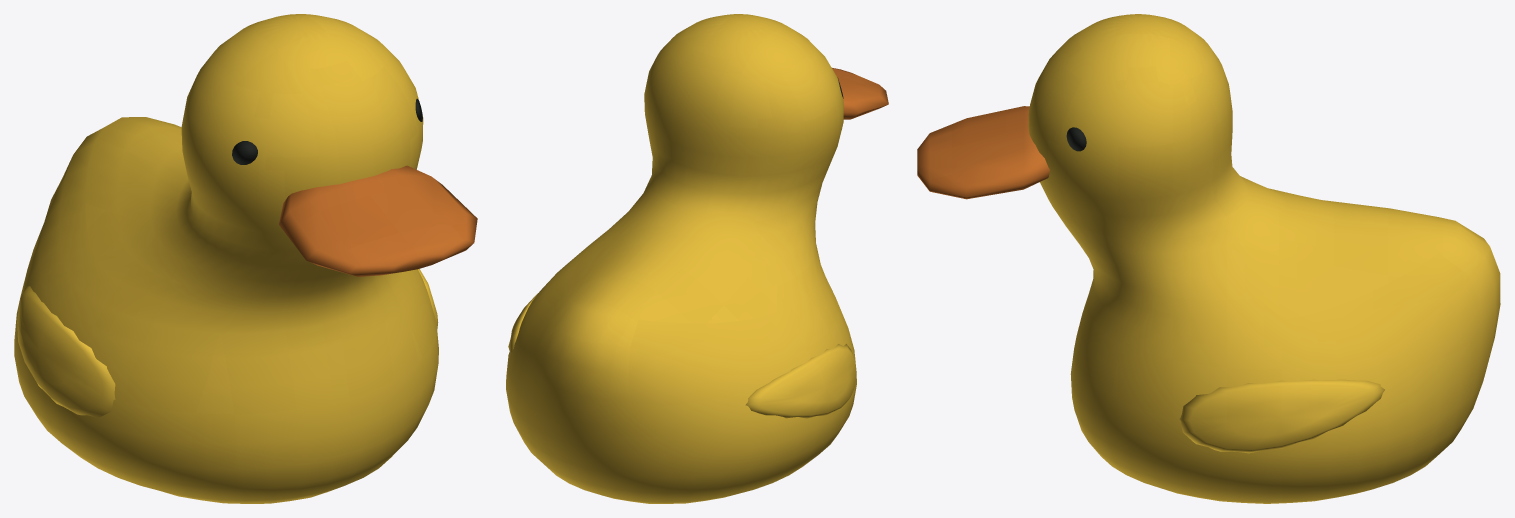
File: rubber_duck.glb
The picture shows the model from 3 angles, left to right: view 1: azimuth 30°, elevation 25°; view 2: azimuth 150°, elevation 25°; view 3: azimuth 270°, elevation 25°; orthographic projection. The views are drawn at different scales.
Parts seen in each view (by area): view 1: core_rubber_duck; view 2: core_rubber_duck; view 3: core_rubber_duck.
Boxes of the visible parts, x1=… form: core_rubber_duck: x1=14, y1=14, x2=477, y2=503; core_rubber_duck: x1=506, y1=14, x2=888, y2=503; core_rubber_duck: x1=917, y1=14, x2=1500, y2=503.
Bounding box in the file's own units: 0.098 × 0.12 × 0.145.
Materials: 3 (3 with a texture image).
